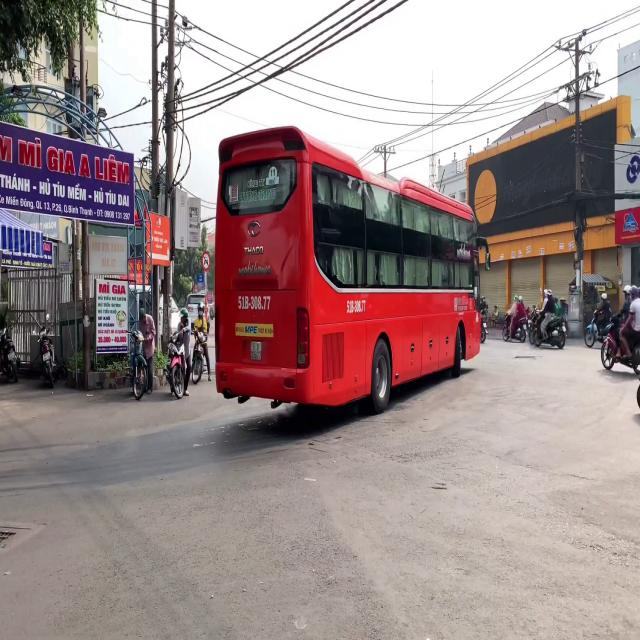bien_trang: (250, 341, 262, 361)
